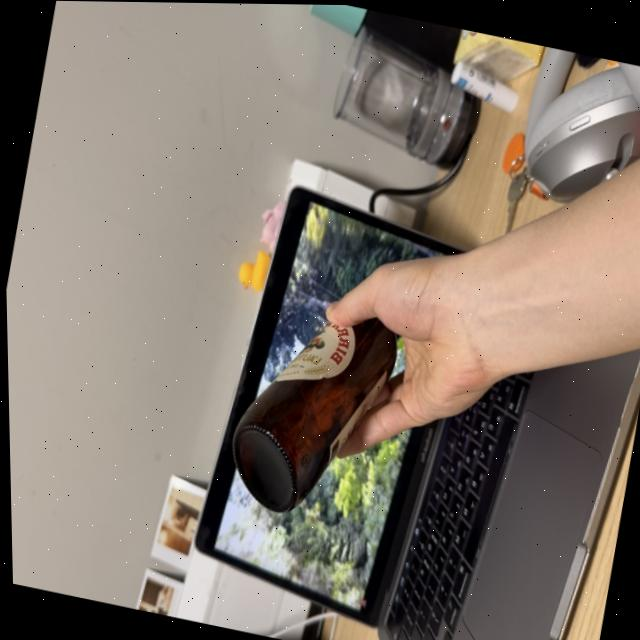beer: (210, 224, 425, 537)
